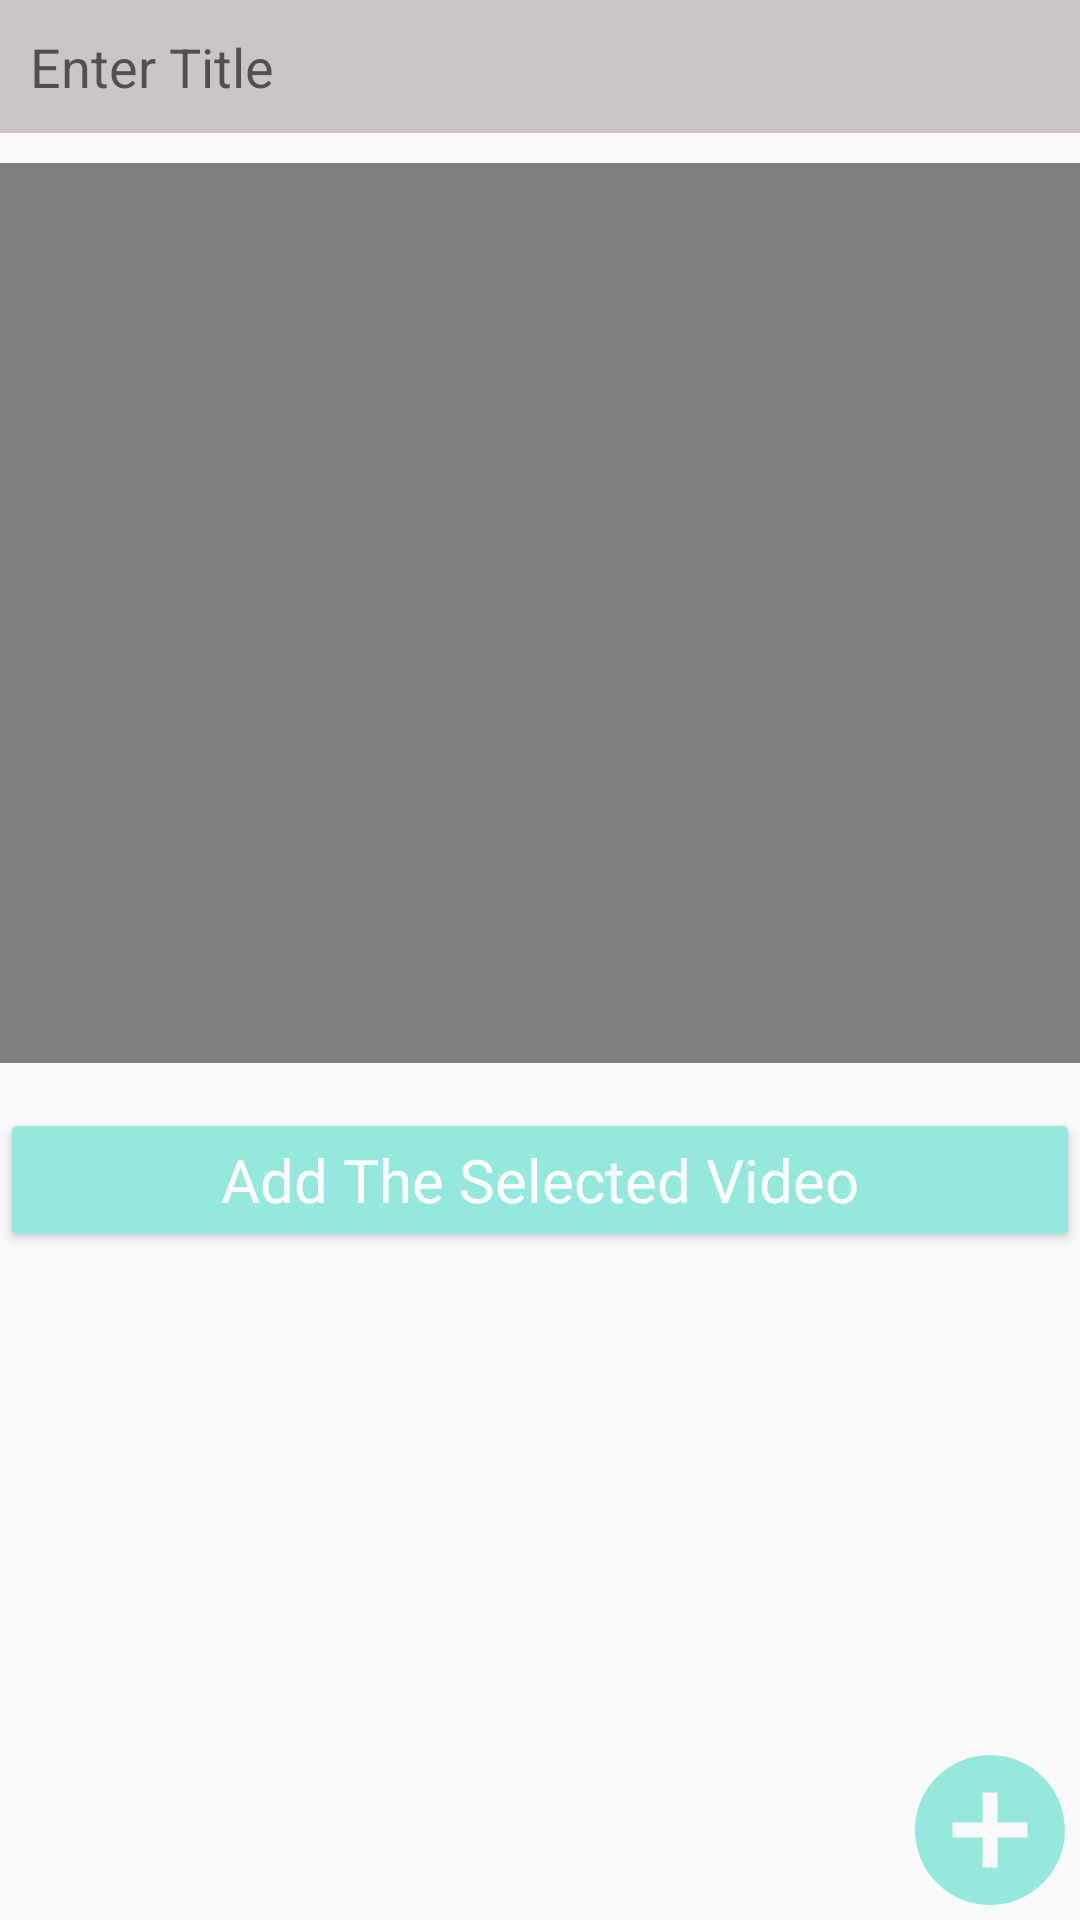

Where icons sit on this 1080x1920 app screen, as (x1, y1, x2, y2):
add circle: (915, 1755, 1065, 1905)
